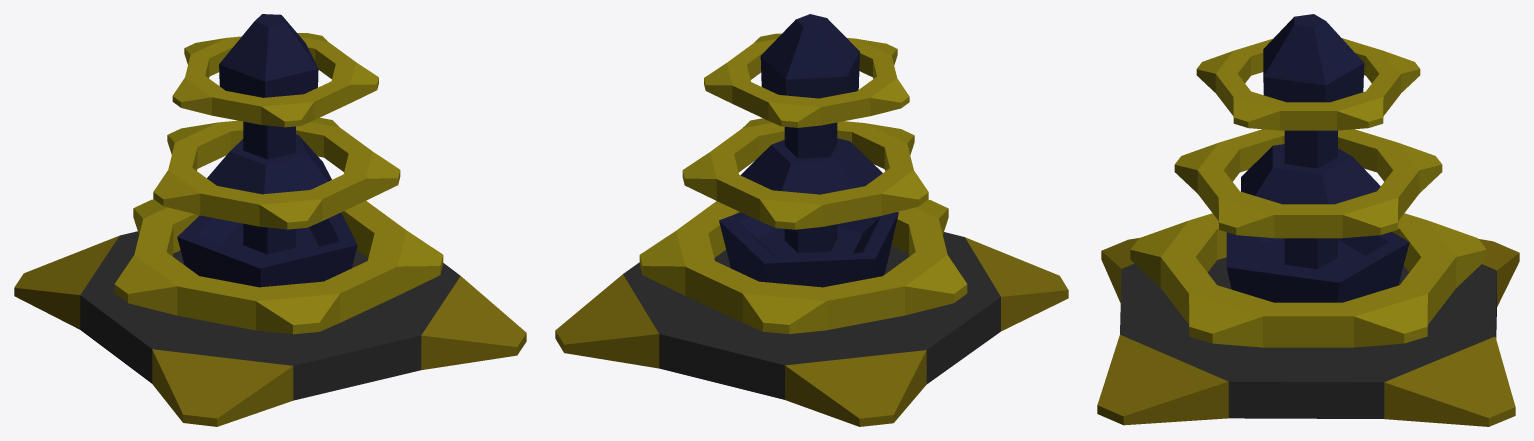
The model's file is EMPTurret1.glb.
3 views of the same model, side by side, from view 1: azimuth 30°, elevation 25°; view 2: azimuth 150°, elevation 25°; view 3: azimuth 270°, elevation 25° (orthographic). The views are drawn at different scales.
Parts seen in each view (by area): view 1: BaseEMPTurret1, MiddleEMPTurret1, Ring1EMPTurret1, Ring2EMPTurret1, Ring3EMPTurret1; view 2: BaseEMPTurret1, MiddleEMPTurret1, Ring1EMPTurret1, Ring2EMPTurret1, Ring3EMPTurret1; view 3: BaseEMPTurret1, MiddleEMPTurret1, Ring1EMPTurret1, Ring2EMPTurret1, Ring3EMPTurret1.
Boxes of the visible parts, x1,y1,x2,y2 form: BaseEMPTurret1: [14, 231, 526, 426]; MiddleEMPTurret1: [177, 14, 357, 287]; Ring1EMPTurret1: [114, 199, 443, 334]; Ring2EMPTurret1: [153, 117, 400, 229]; Ring3EMPTurret1: [172, 33, 378, 127]; BaseEMPTurret1: [555, 232, 1068, 426]; MiddleEMPTurret1: [719, 14, 898, 287]; Ring1EMPTurret1: [639, 199, 967, 333]; Ring2EMPTurret1: [682, 118, 928, 229]; Ring3EMPTurret1: [704, 33, 909, 127]; BaseEMPTurret1: [1097, 238, 1519, 426]; MiddleEMPTurret1: [1226, 14, 1409, 302]; Ring1EMPTurret1: [1130, 213, 1486, 347]; Ring2EMPTurret1: [1174, 129, 1442, 238]; Ring3EMPTurret1: [1196, 38, 1420, 130].
Size of the model in its own units: 3.55 by 2.95 by 3.55.
